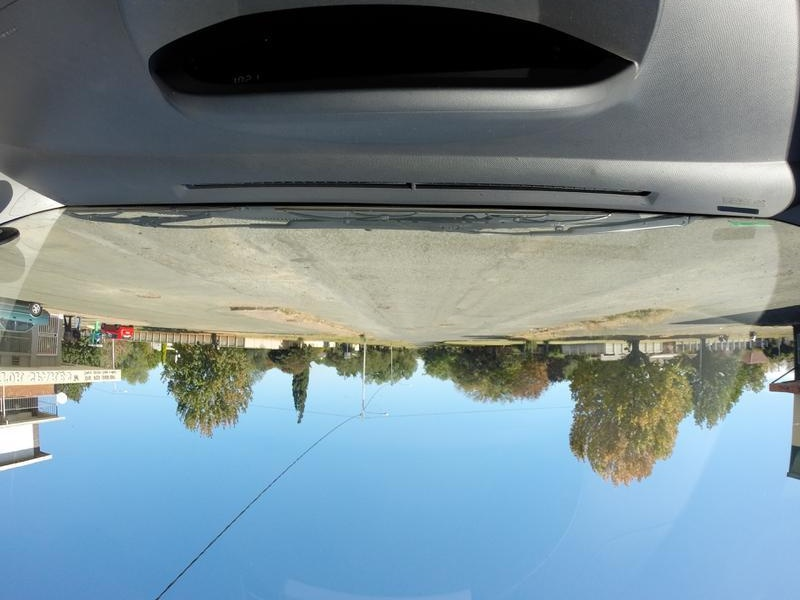pothole: (124, 283, 169, 306), (443, 319, 466, 333)
